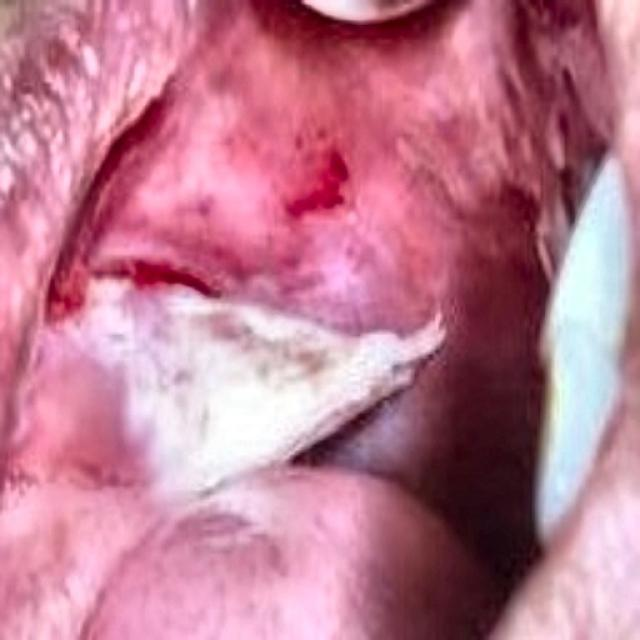cancer-detection: (63, 256, 450, 526)
processing_area: (0, 0, 627, 639)
